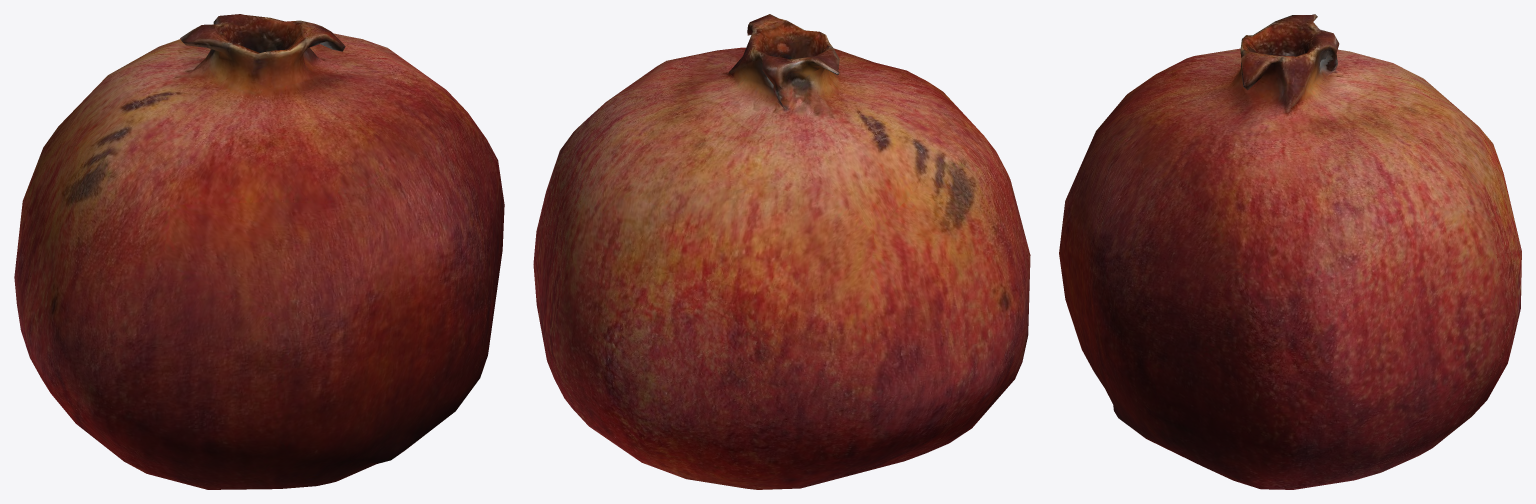
File: 23_pomegranate.glb
3 renders of one model, left to right at view 1: azimuth 30°, elevation 25°; view 2: azimuth 150°, elevation 25°; view 3: azimuth 270°, elevation 25°, orthographic. The views are drawn at different scales.
Visible parts, largest first — view 1: 23_pomegranate; view 2: 23_pomegranate; view 3: 23_pomegranate.
Part boxes in pixels (x1,y1,x2,y2): 23_pomegranate: (14, 14, 504, 489); 23_pomegranate: (533, 14, 1030, 489); 23_pomegranate: (1059, 14, 1521, 489).
Bounding box in the file's own units: 0.9966 × 0.9327 × 0.9313.
1 material, 1 textured.
